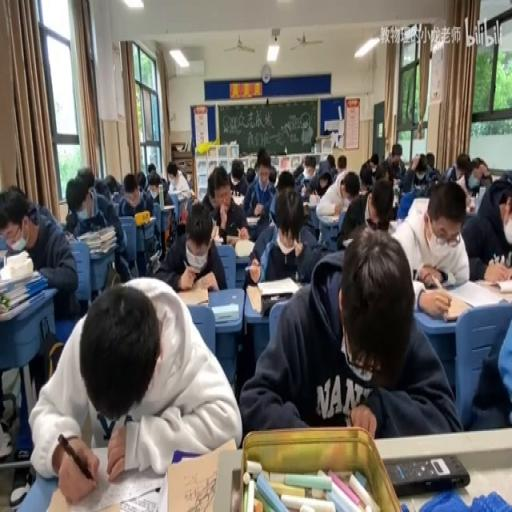calculator: (162, 441, 238, 512), (450, 279, 505, 307), (75, 224, 117, 254), (0, 266, 40, 294), (258, 274, 299, 294), (176, 283, 208, 306), (210, 300, 238, 322), (406, 195, 430, 220), (244, 283, 262, 313), (233, 238, 254, 258), (492, 278, 512, 292), (318, 213, 340, 225), (474, 188, 484, 212), (225, 233, 241, 245), (148, 248, 160, 264), (230, 194, 244, 206), (246, 214, 259, 224), (213, 233, 223, 245), (308, 196, 318, 206), (160, 204, 174, 210)
paper: (30, 276, 238, 503), (240, 228, 457, 440), (2, 182, 79, 324), (390, 176, 469, 289), (245, 188, 323, 290), (154, 200, 224, 292), (466, 304, 511, 431), (460, 171, 512, 277), (116, 172, 154, 267), (336, 174, 382, 248), (166, 161, 192, 212), (294, 154, 317, 194), (226, 155, 248, 196), (446, 150, 474, 180), (64, 178, 82, 224), (146, 165, 168, 196), (399, 165, 417, 193), (498, 199, 512, 231), (471, 158, 490, 180), (254, 145, 270, 171), (276, 168, 294, 190), (358, 161, 372, 189), (206, 169, 216, 208), (105, 174, 120, 196), (380, 161, 394, 182), (123, 171, 137, 192), (414, 152, 426, 174), (136, 171, 146, 192), (392, 182, 400, 206), (267, 166, 277, 185), (326, 152, 335, 172), (370, 152, 379, 171), (424, 152, 434, 168), (391, 142, 402, 156), (337, 154, 346, 170), (280, 156, 290, 170), (245, 168, 254, 183), (148, 162, 154, 174), (186, 171, 192, 182), (301, 158, 306, 168)
person: (386, 454, 470, 496), (262, 292, 294, 314), (302, 202, 310, 215)
